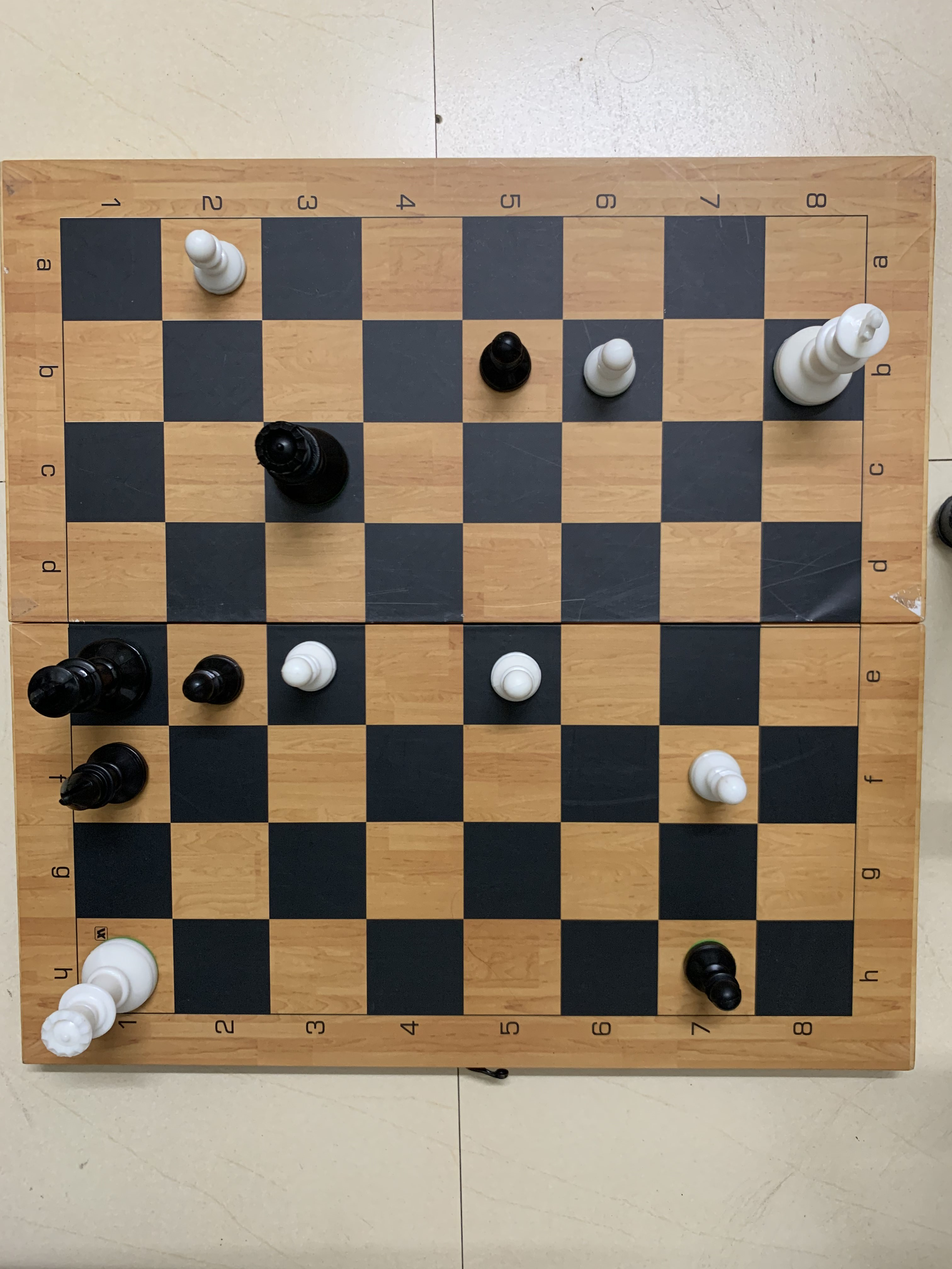black_bishop: (52, 727, 159, 824)
black_king: (20, 625, 161, 721)
black_pawn: (664, 927, 760, 1031), (463, 317, 551, 406), (175, 634, 256, 718)
black_queen: (249, 416, 357, 517)
white_king: (768, 285, 898, 424)
white_pawn: (170, 222, 261, 308), (268, 625, 354, 713), (671, 738, 755, 825), (570, 323, 653, 407), (480, 633, 557, 716)
white_queen: (35, 927, 174, 1065)
